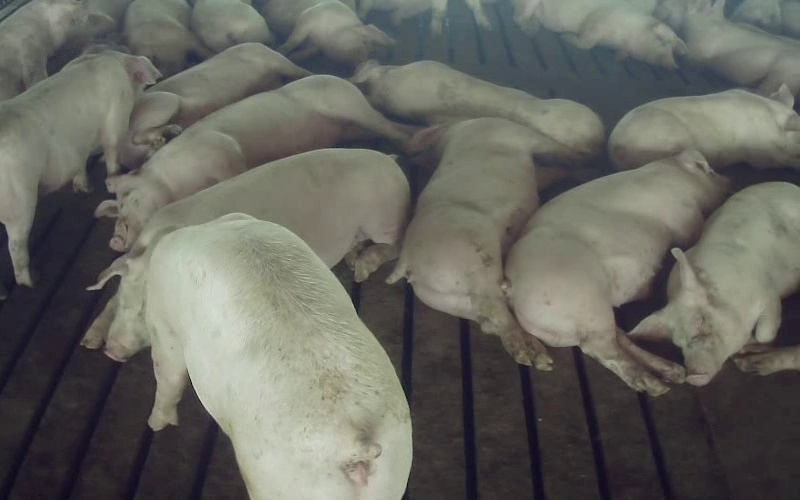pig: (145, 214, 411, 499), (96, 75, 408, 251), (505, 150, 727, 395), (388, 118, 574, 369), (630, 182, 799, 385), (351, 61, 604, 155), (121, 43, 308, 168), (609, 84, 799, 168), (513, 0, 686, 69), (684, 0, 799, 95), (261, 0, 394, 66), (124, 0, 211, 76), (191, 0, 273, 52)
